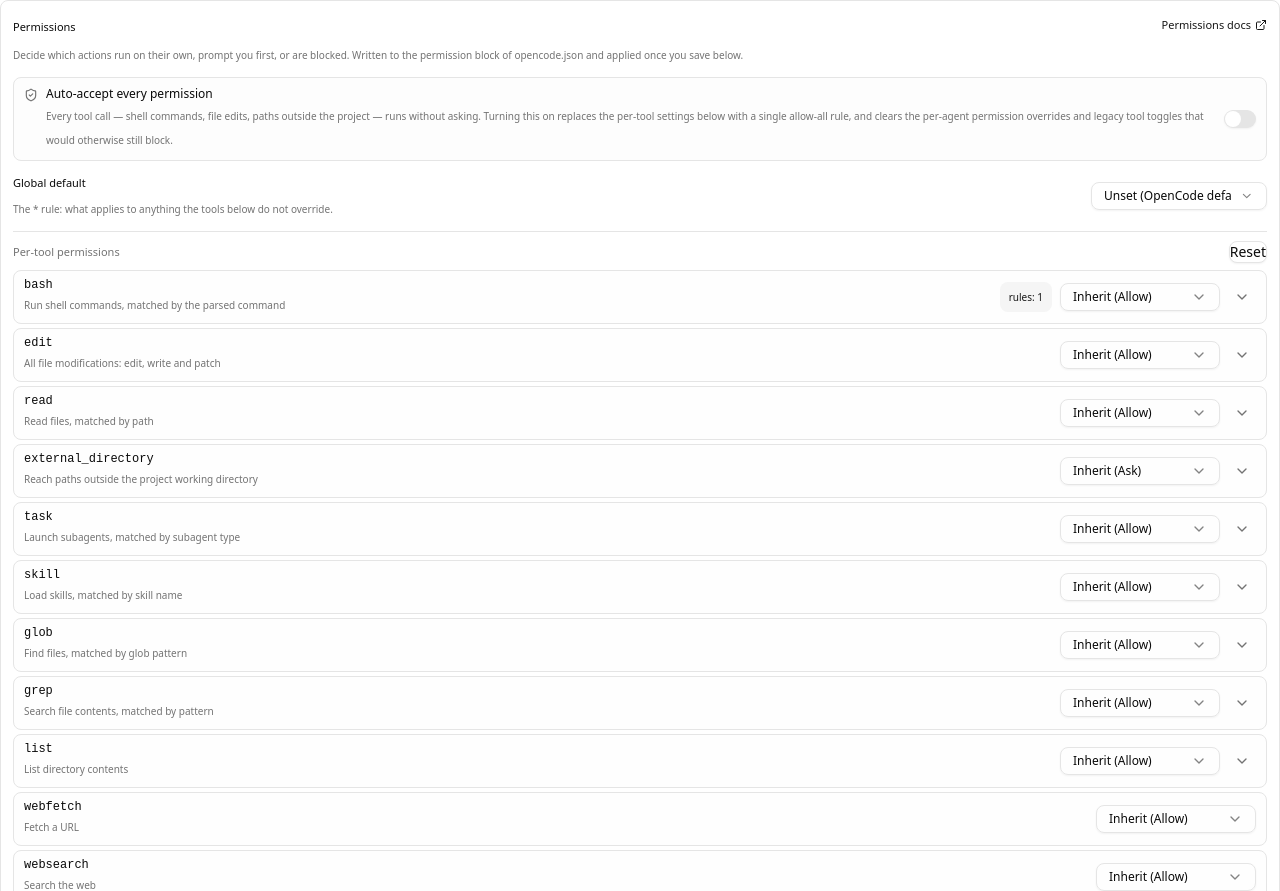
Test case: OpenCodePermissionsSection › keeps the row when a pattern is cleared, and reverts on blur
Click the button named "Fine-grained rules for bash". click: (1242, 297)
box: x1=1228 y1=283 x2=1256 y2=311
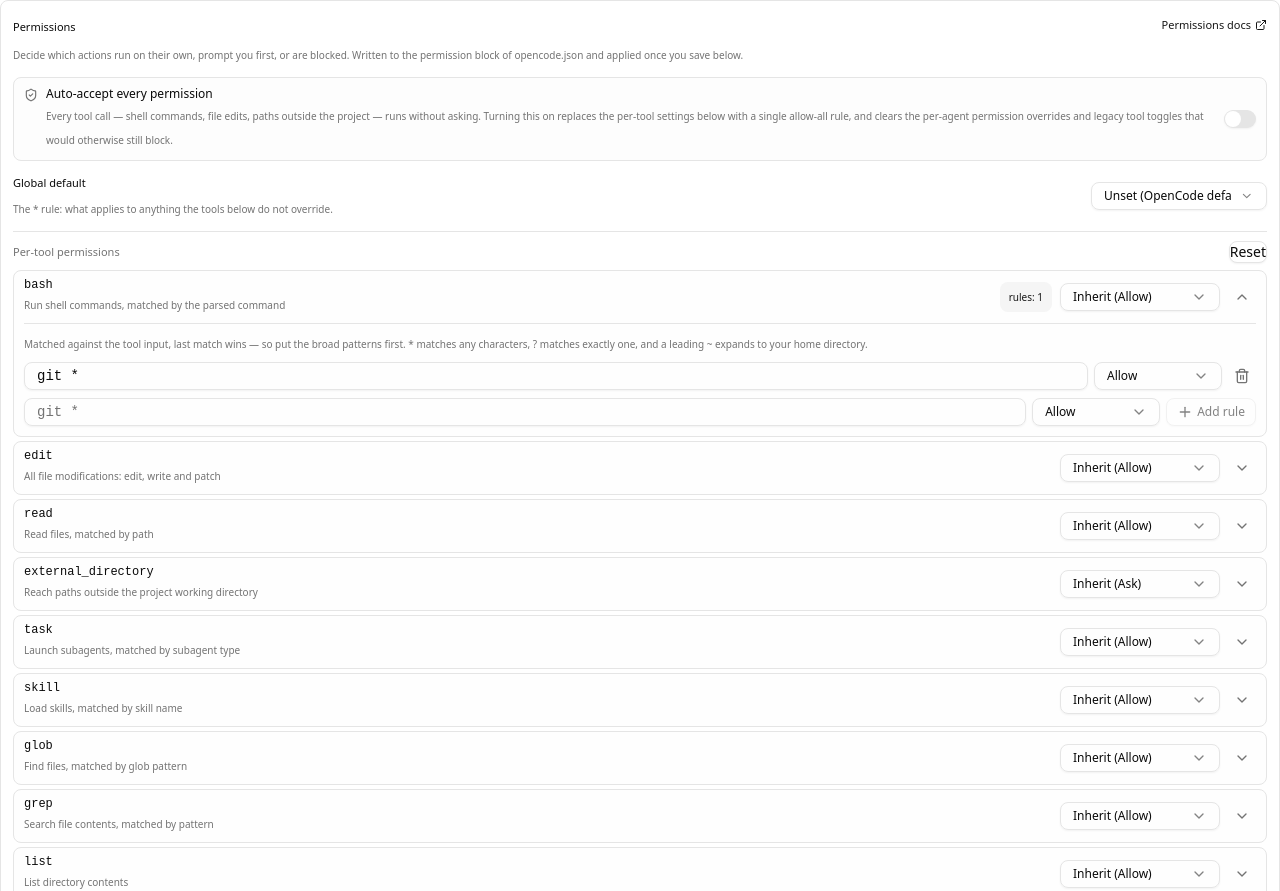
Clear the field with placeholder "git *". click: (556, 376)
box: x1=24 y1=362 x2=1088 y2=390
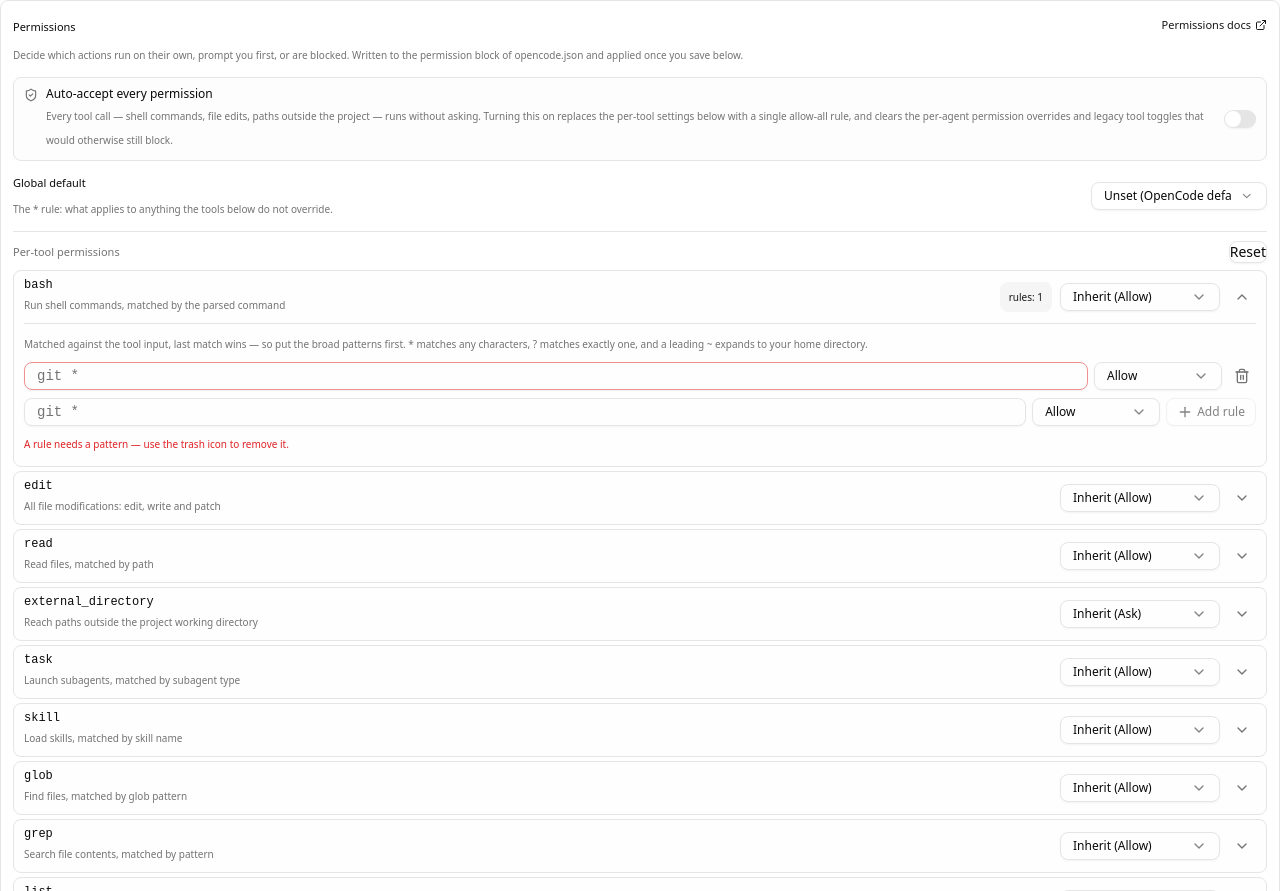
Expected: the text "A rule needs a pattern — use the trash icon to remove it." is shown, x1=24 y1=437 x2=289 y2=451
Leave the 1st field with placeholder "git *", box x1=24 y1=362 x2=1088 y2=390
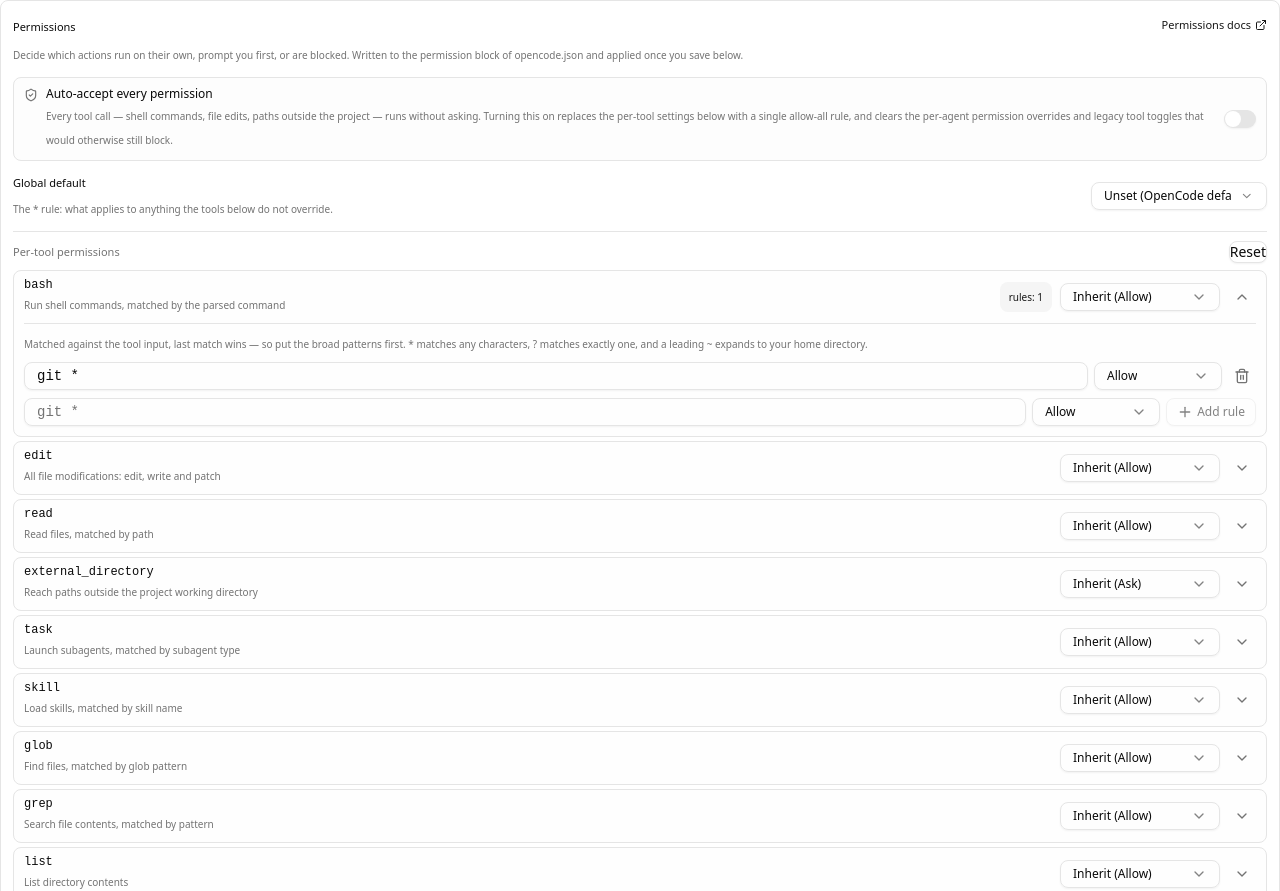
Expected: the field with placeholder "git *" holds "git *", x1=24 y1=362 x2=1088 y2=390
